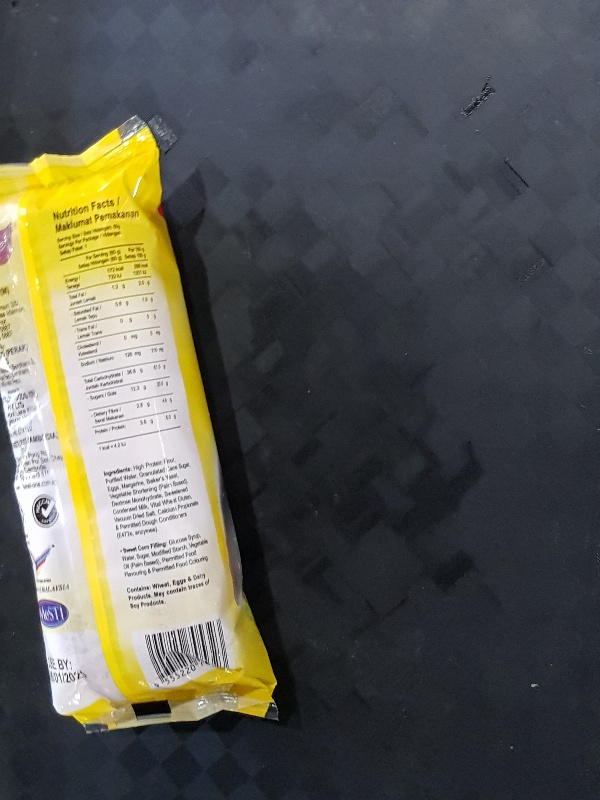Tinges Roll Sweet Corn: (1, 113, 281, 736)
